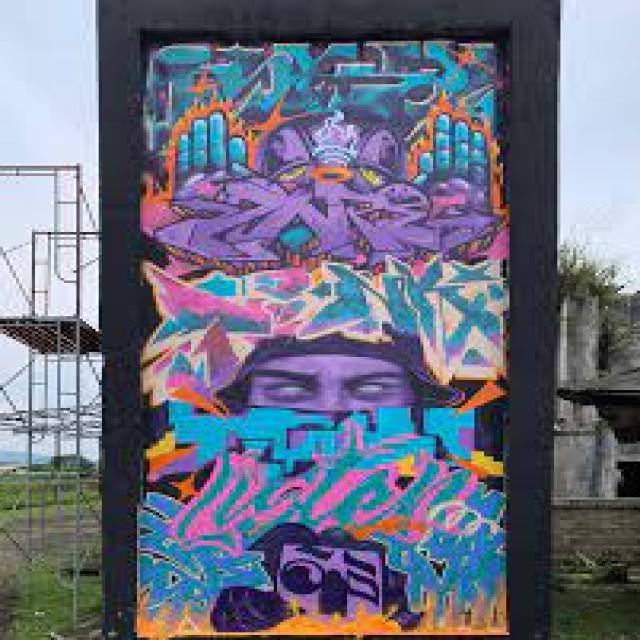-: (137, 30, 512, 635)
